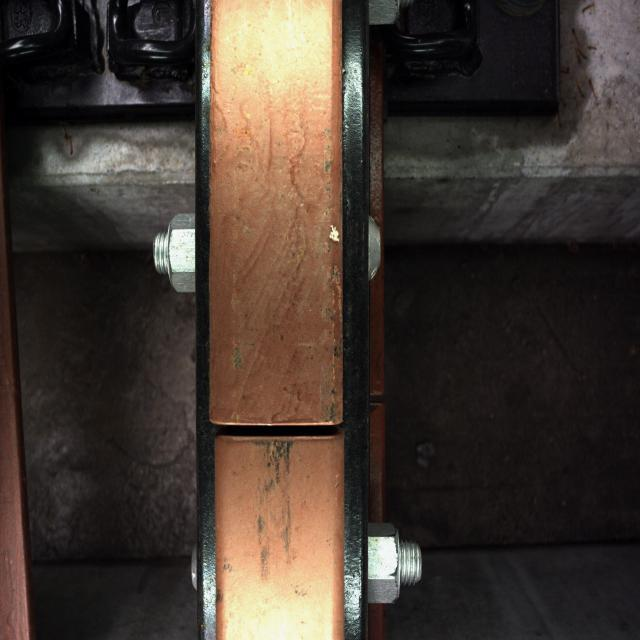spalling: (186, 390, 352, 475)
